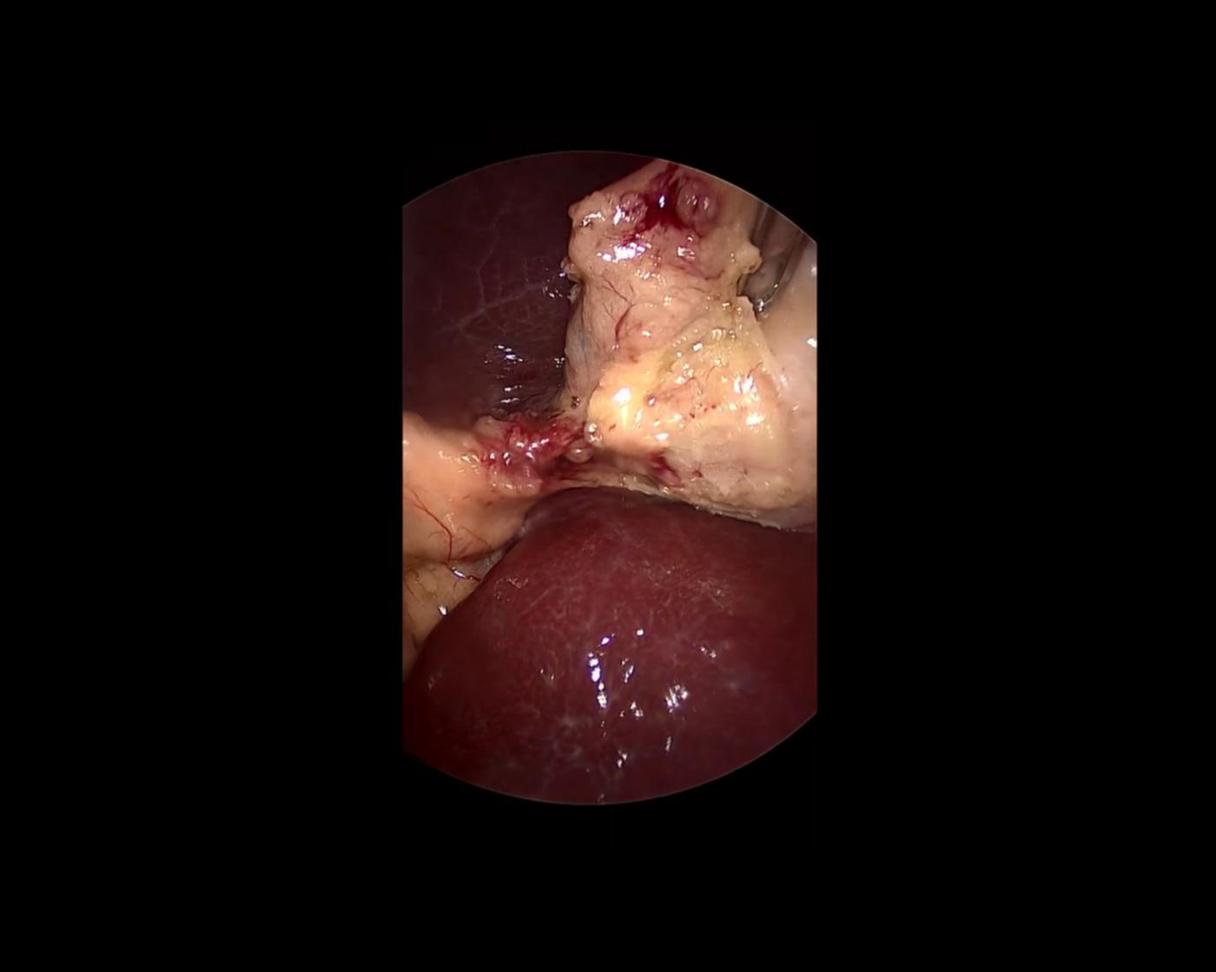Forceps: (714, 206, 813, 313)
Gallbladder: (551, 158, 816, 530)
Liver: (402, 486, 816, 804), (399, 152, 646, 435)
